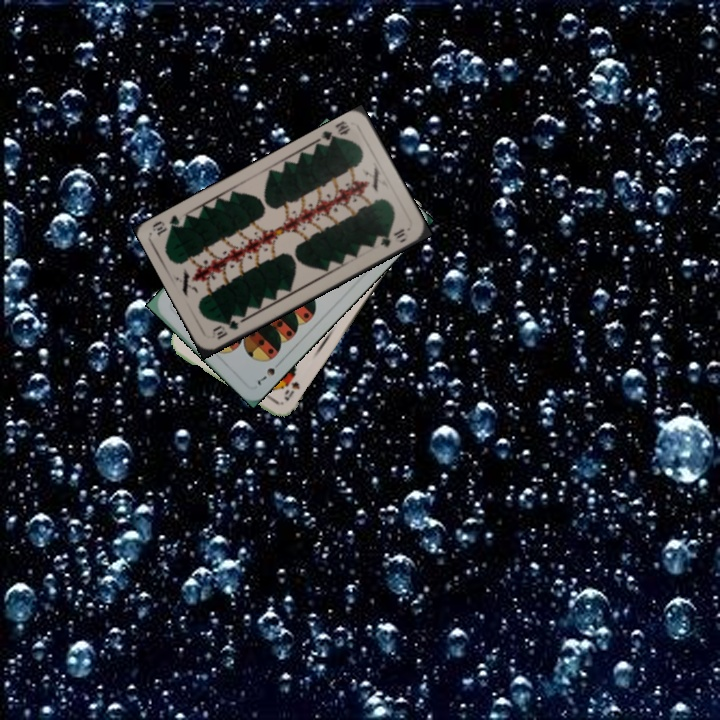G10: (318, 117, 353, 149), (209, 316, 241, 342)
S7: (252, 357, 283, 388)
SO: (280, 377, 302, 403)
